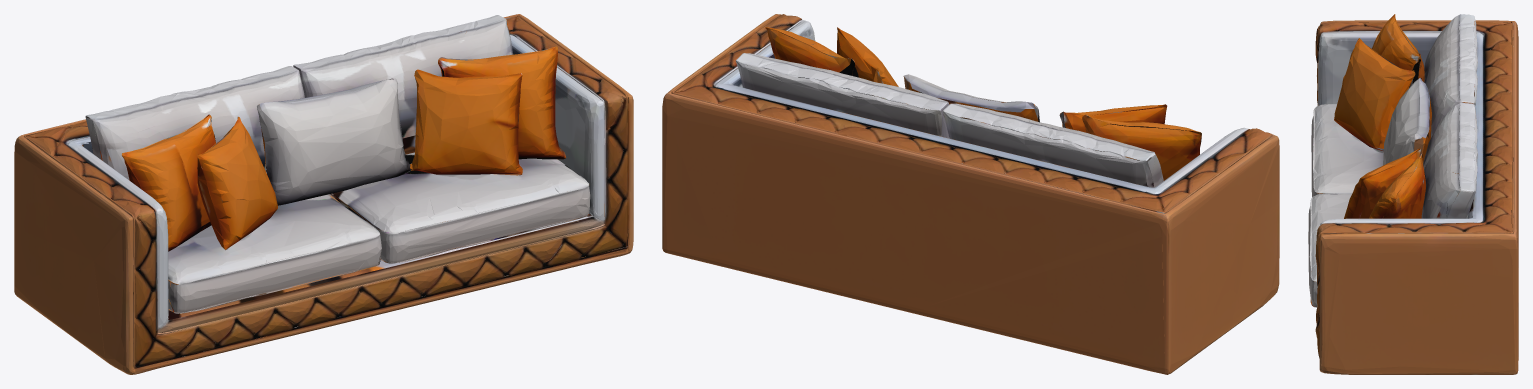
Rendered from edited_mesh.glb.
3 views of the same model, side by side, from view 1: azimuth 30°, elevation 25°; view 2: azimuth 150°, elevation 25°; view 3: azimuth 270°, elevation 25° (orthographic). The views are drawn at different scales.
Parts seen in each view (by area): view 1: solid_001_wire; view 2: solid_001_wire; view 3: solid_001_wire.
Part boxes in pixels (x1,y1,x2,y2): solid_001_wire: (14, 14, 633, 374); solid_001_wire: (662, 14, 1279, 374); solid_001_wire: (1308, 14, 1518, 374).
Size of the model in its own units: 2 by 0.7095 by 0.8163.
1 material, 1 textured.
